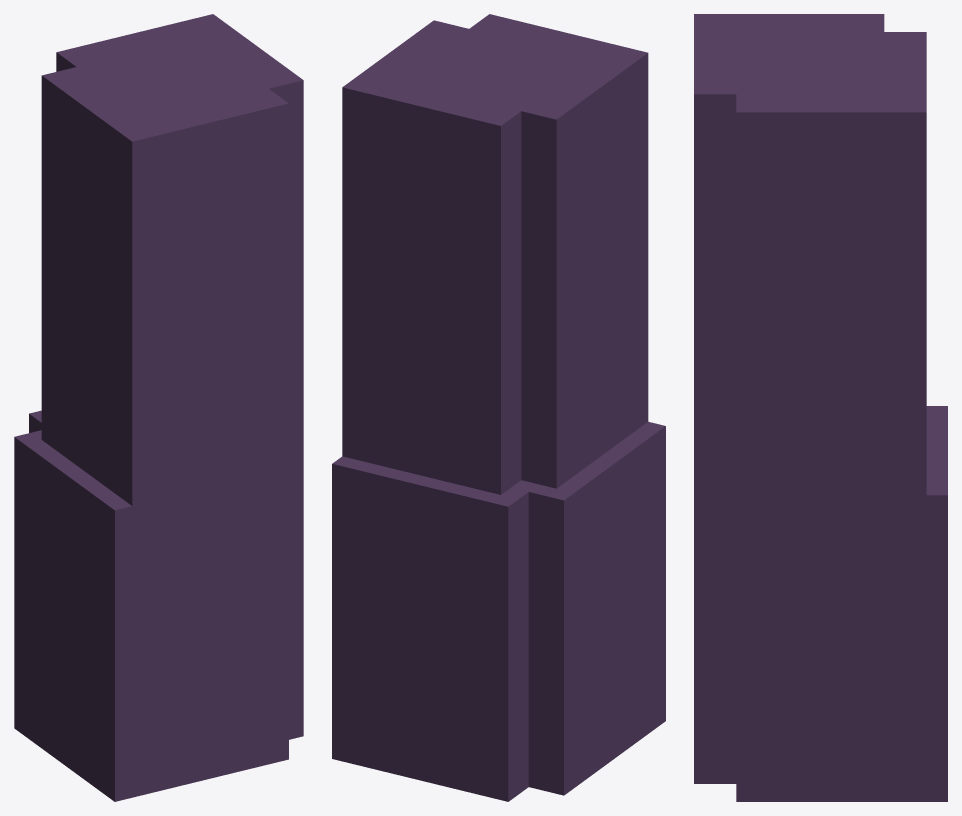
The model's file is Level3Crystal_3.dae.
The picture shows the model from 3 angles, left to right: view 1: azimuth 30°, elevation 25°; view 2: azimuth 150°, elevation 25°; view 3: azimuth 270°, elevation 25°; orthographic projection. The views are drawn at different scales.
Parts seen in each view (by area): view 1: Level3Crystal_3; view 2: Level3Crystal_3; view 3: Level3Crystal_3.
Boxes of the visible parts, x1,y1,x2,y2 form: Level3Crystal_3: (14,14,303,801); Level3Crystal_3: (332,14,665,801); Level3Crystal_3: (694,14,947,801).
Bounding box in the file's own units: 1.2 × 3.6 × 1.2.
Materials: 1 (1 with a texture image).
